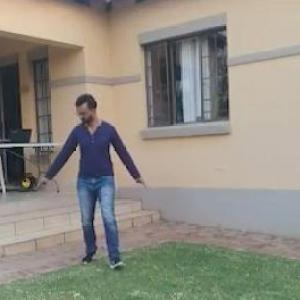land: (46, 96, 154, 272)
